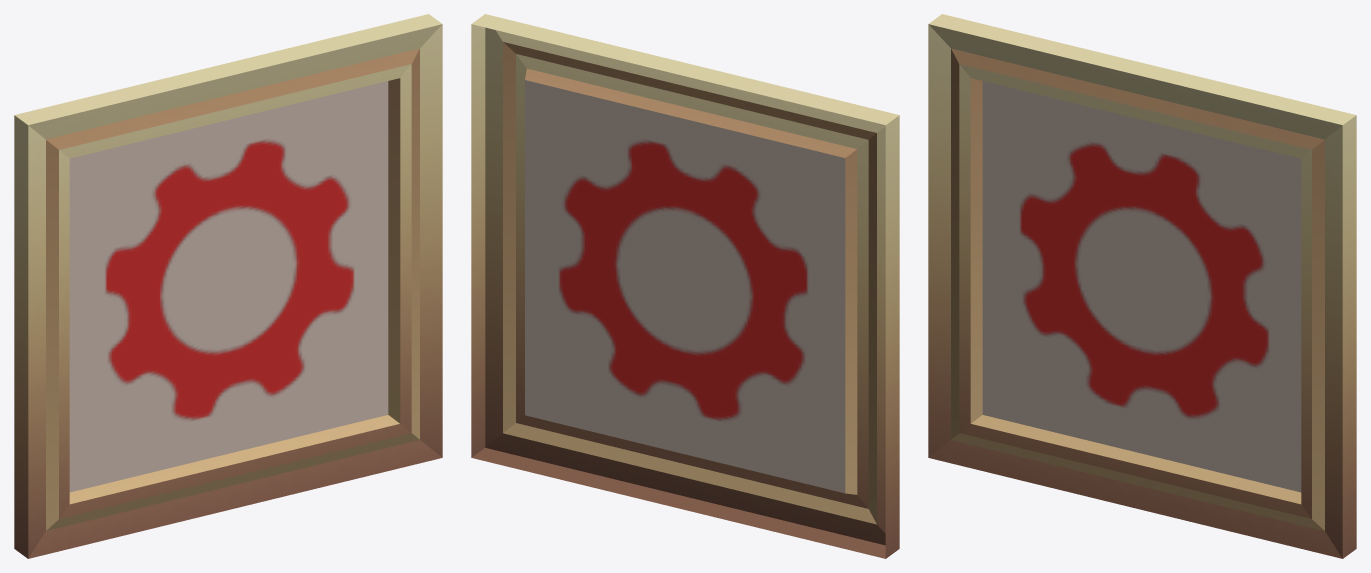
Rendered from M_Prop_Picture_001.fbx.
The picture shows the model from 3 angles, left to right: view 1: azimuth 30°, elevation 25°; view 2: azimuth 150°, elevation 25°; view 3: azimuth 330°, elevation 25°; orthographic projection.
Visible parts, largest first — view 1: Frame2; view 2: Frame2; view 3: Frame2.
Boxes of the visible parts, left/top/right/bottom form: Frame2: left=14, top=14, right=442, bottom=558; Frame2: left=471, top=14, right=899, bottom=558; Frame2: left=928, top=14, right=1356, bottom=558.
Size of the model in its own units: 101 by 101 by 5.83.
